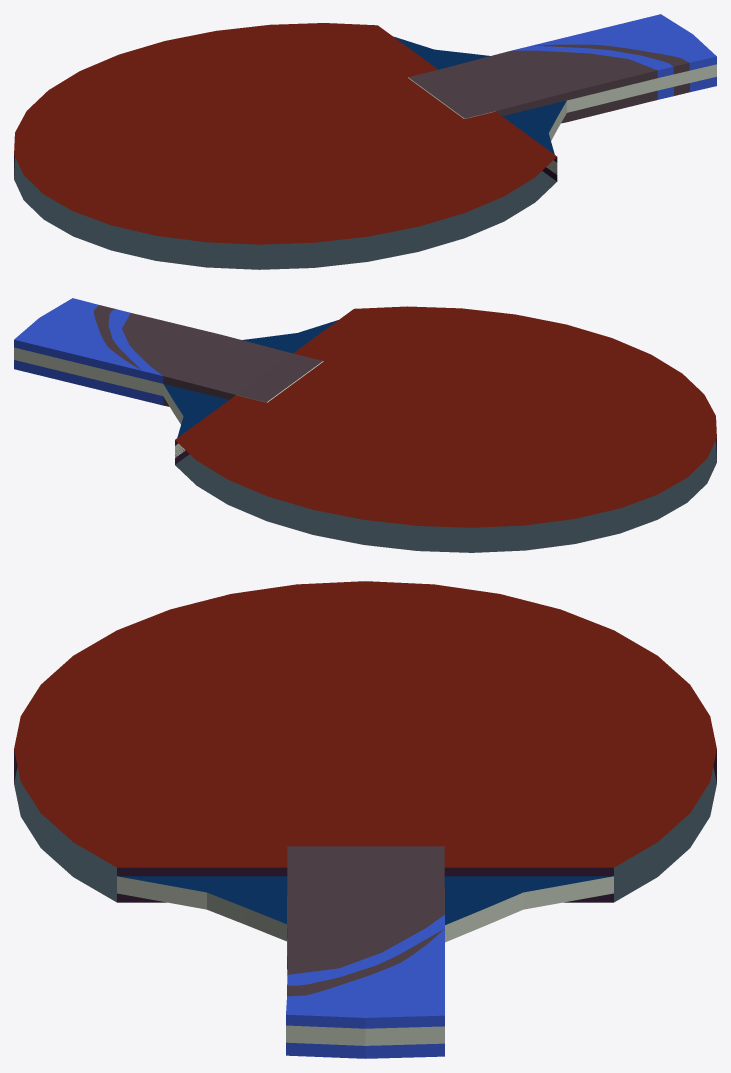
The model's file is Paddles.glb.
3 renders of one model, top to bottom at view 1: azimuth 30°, elevation 25°; view 2: azimuth 150°, elevation 25°; view 3: azimuth 270°, elevation 25°, orthographic. The views are drawn at different scales.
Parts seen in each view (by area): view 1: Circle; view 2: Circle; view 3: Circle.
Part boxes in pixels (box(x1,y1,x2,y2)): Circle: box(14, 14, 716, 269); Circle: box(14, 298, 716, 552); Circle: box(14, 581, 716, 1058).
Bounding box in the file's own units: 2.62 × 0.114 × 1.77.
